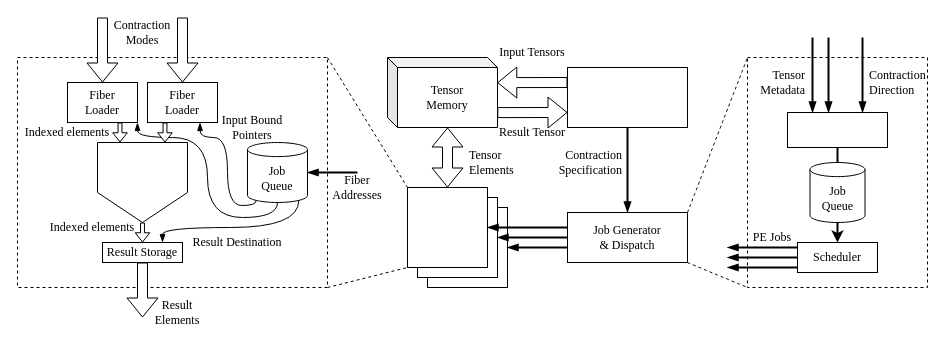
Image size: 945x344. Some labels were removed from this diagram. The box of each missing label's shape, as (x1, y1, x2, y2) in pixels:
Contraction Enumeration: (786, 112, 888, 148)
Input/ Output: (566, 66, 688, 128)
Intersection & MAC: (96, 142, 188, 222)
Processing Elements: (406, 186, 488, 268)
